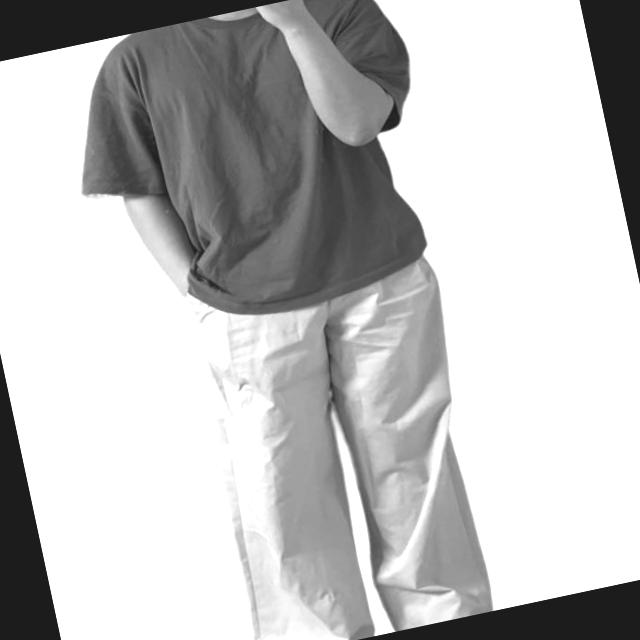cottonpants: (186, 242, 514, 640)
shortsleeve: (48, 0, 452, 347)
